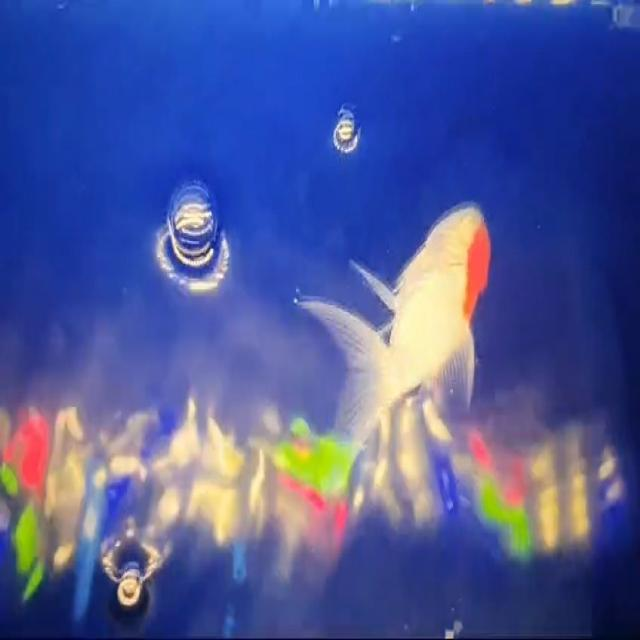fish: (297, 198, 506, 464)
